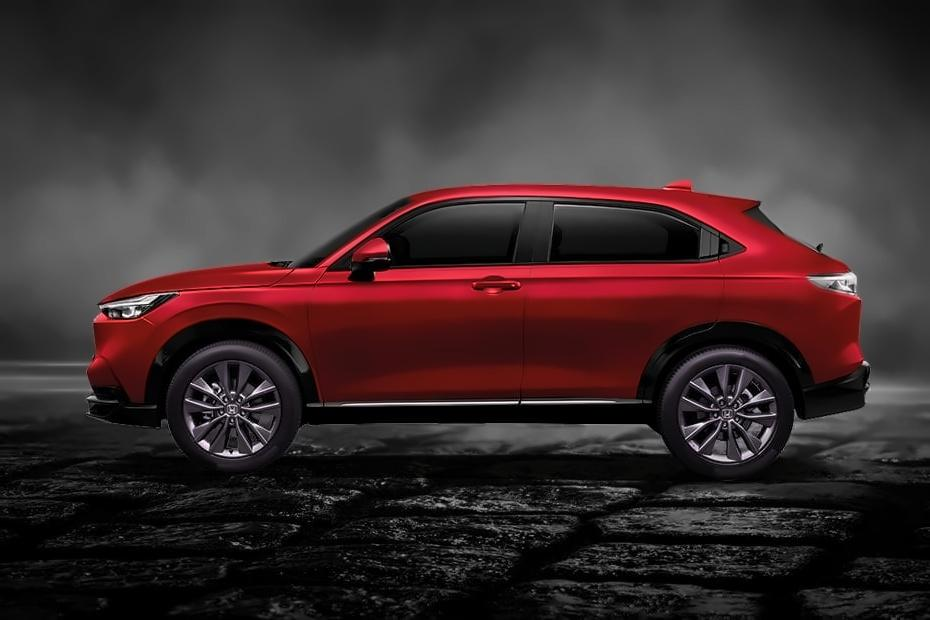Car hood: (89, 254, 295, 308)
Fender - -F-L-: (138, 262, 325, 414)
Fender - -R-L-: (699, 211, 836, 376)
Front bumper: (73, 312, 173, 428)
Headlight - -L-: (100, 289, 183, 325)
Passenger-s door - -F-L-: (300, 177, 546, 428)
Passenger-s door - -R-L-: (507, 177, 715, 440)
Rear bumper: (788, 359, 886, 424)
Rear light - -L-: (801, 268, 860, 301)
Side bumper - -L-: (299, 377, 660, 439)
Side mirror - -L-: (345, 235, 392, 278)
